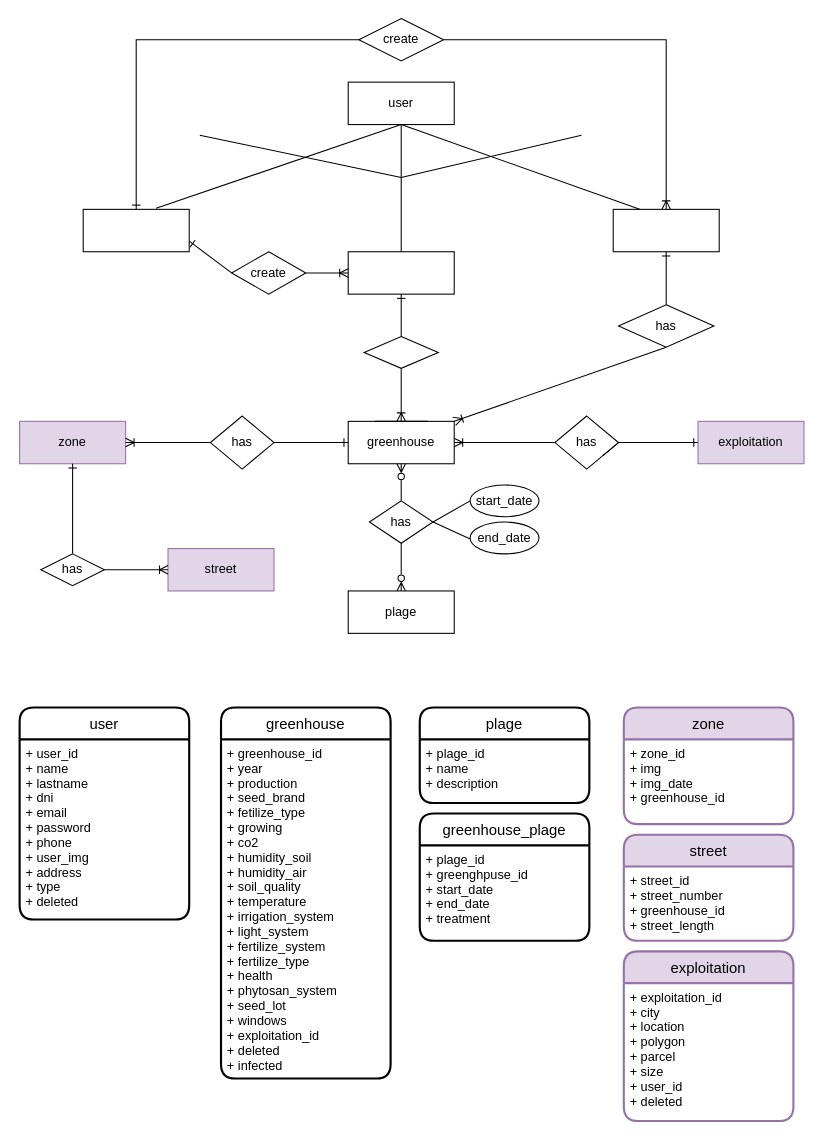
Image size: 823x1141. Some labels were removed from this diagram. Each missing label, with the centre of its shape:
admin: the point at 135,230
control: the point at 400,351
Engineer: the point at 400,272
farmer: the point at 665,230
